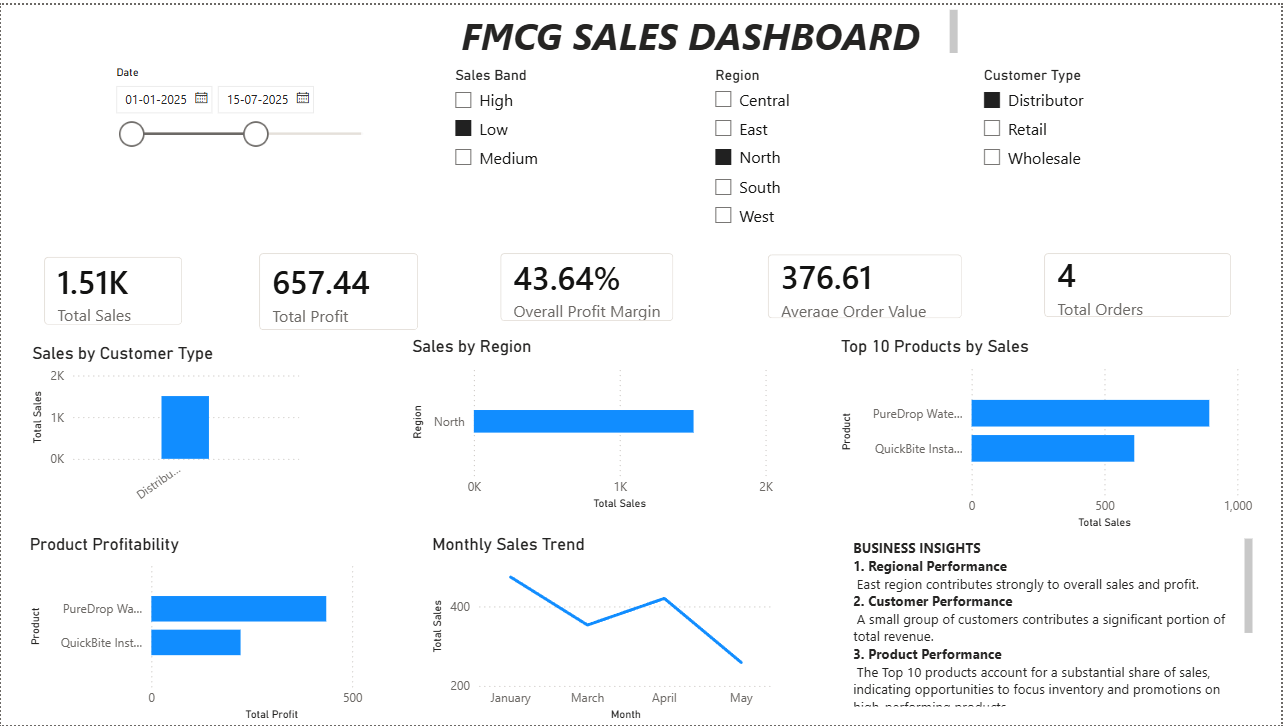

The page's visual inventory and layout, read from the dashboard file:
{"tool":"powerbi","page":{"name":"Page 1","canvas":[1280,720],"ordinal":0},"visuals":[{"type":"cardVisual","fields":{"Data":["Sales_Data.Total Sales"]},"box":[26.4,235.1,172.5,103],"z":1000},{"type":"cardVisual","fields":{"Data":["Sales_Data.Total Profit"]},"box":[240.7,231,193.4,111.3],"z":2000},{"type":"cardVisual","fields":{"Data":["Sales_Data.Total Orders"]},"box":[1026.8,231,221.2,98.8],"z":3000},{"type":"cardVisual","fields":{"Data":["Sales_Data.Overall Profit Margin"]},"box":[482.8,231,207.3,103],"z":4000},{"type":"clusteredColumnChart","title":"Sales by Customer Type","fields":{"Y":["Sales_Data.Total Sales"],"Category":["Sales_Data.Customer Type"]},"box":[26.1,337.6,277.2,171.5],"z":5000},{"type":"clusteredBarChart","title":"Sales by Region","fields":{"Category":["Sales_Data.Region"],"Y":["Sales_Data.Total Sales"]},"box":[406.2,330.7,370.5,178.4],"z":6000},{"type":"clusteredBarChart","title":"Top 10 Products by Sales","fields":{"Category":["Sales_Data.Product"],"Y":["Sales_Data.Total Sales"]},"box":[834.8,331.1,421.6,197.6],"z":7000},{"type":"clusteredBarChart","title":"Product Profitability","fields":{"Category":["Sales_Data.Product"],"Y":["Sales_Data.Total Profit"]},"box":[23.3,528.3,382.8,192.1],"z":8000},{"type":"cardVisual","fields":{"Data":["Date_Table.Average Order Value"]},"box":[749.9,232.3,228.2,98.8],"z":9000},{"type":"lineChart","title":"Monthly Sales Trend","fields":{"Category":["Date_Table.Month"],"Y":["Sales_Data.Total Sales"]},"box":[426.8,528.3,349.9,192.1],"z":10000},{"type":"slicer","fields":{"Values":["Sales_Data.Customer Type"]},"box":[970.2,56.3,190.7,127.6],"z":11000},{"type":"textbox","box":[847.3,528.7,409,178.1],"z":12000},{"type":"textbox","box":[426.8,0,535.2,56.3],"z":12001},{"type":"slicer","fields":{"Values":["Date_Table.Date"]},"box":[102.9,56.3,281.3,116.6],"z":12002},{"type":"slicer","fields":{"Values":["Sales_Data.Region"]},"box":[701.2,56.3,149.6,172.9],"z":12003},{"type":"slicer","fields":{"Values":["Sales_Data.Sales Band"]},"box":[441.9,56.3,138.6,119.4],"z":12004}]}

Visuals, with their boxes in screenshot pixels (x1, y1, x2, y2), scaled from the page's 1280x720 canvas onto the 1284x726 screenshot:
cardVisual - Sales_Data.Total Sales: 26 237 200 341
cardVisual - Sales_Data.Total Profit: 241 233 435 345
cardVisual - Sales_Data.Total Orders: 1030 233 1252 333
cardVisual - Sales_Data.Overall Profit Margin: 484 233 692 337
"Sales by Customer Type" clusteredColumnChart: 26 340 304 513
"Sales by Region" clusteredBarChart: 407 333 779 513
"Top 10 Products by Sales" clusteredBarChart: 837 334 1260 533
"Product Profitability" clusteredBarChart: 23 533 407 725
cardVisual - Date_Table.Average Order Value: 752 234 981 334
"Monthly Sales Trend" lineChart: 428 533 779 725
slicer - Sales_Data.Customer Type: 973 57 1165 185
textbox: 850 533 1260 713
textbox: 428 0 965 57
slicer - Date_Table.Date: 103 57 385 174
slicer - Sales_Data.Region: 703 57 853 231
slicer - Sales_Data.Sales Band: 443 57 582 177
